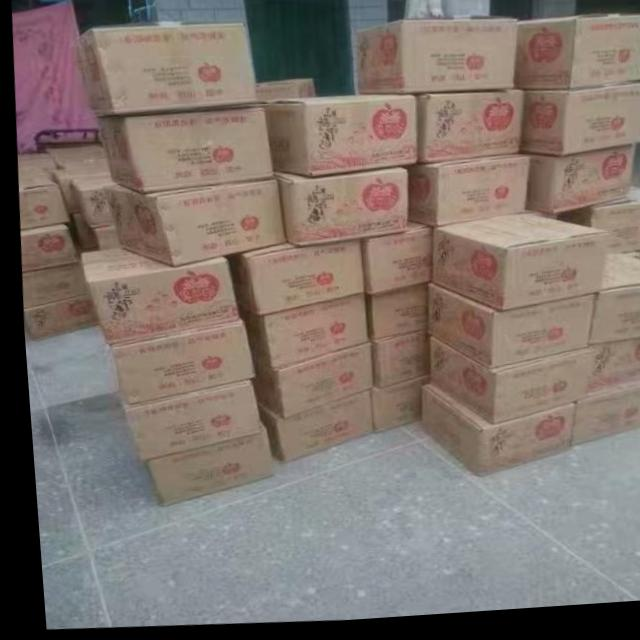box: (423, 216, 602, 317), (71, 27, 258, 116), (93, 106, 271, 196), (101, 180, 283, 268), (75, 249, 236, 347), (423, 286, 591, 374), (423, 341, 584, 431), (411, 389, 568, 480), (353, 21, 515, 100), (260, 97, 413, 180), (102, 322, 246, 407), (108, 384, 254, 463), (136, 424, 266, 508), (270, 172, 405, 251), (220, 243, 360, 318), (234, 296, 364, 372), (510, 22, 640, 97), (516, 88, 640, 163), (398, 160, 524, 233), (245, 346, 368, 420), (514, 153, 632, 227), (250, 395, 367, 467), (412, 98, 520, 171), (553, 190, 640, 260), (355, 226, 428, 298), (584, 261, 640, 354), (565, 393, 640, 453), (359, 287, 424, 346), (579, 346, 640, 405), (361, 378, 423, 436), (18, 294, 92, 341), (15, 165, 66, 231), (17, 261, 86, 309), (365, 336, 424, 390), (16, 223, 78, 272), (49, 164, 105, 214), (67, 176, 108, 228), (15, 153, 61, 183), (254, 84, 315, 105), (67, 212, 97, 251), (39, 144, 100, 159), (50, 154, 102, 168), (87, 226, 116, 250), (617, 258, 640, 269)
